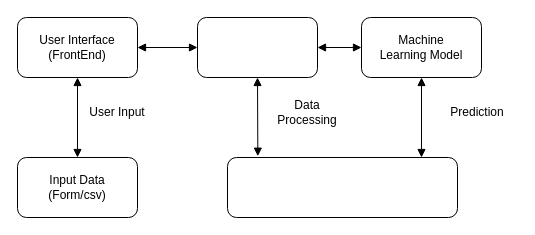
This 535x235 diagram has some shape labels left out. The centre of each missing label's shape, as x and y in pixels:
"BackEnd API (Flask server)" belongs at pixel 257 47.
"Output Result (Probability)" belongs at pixel 342 187.
